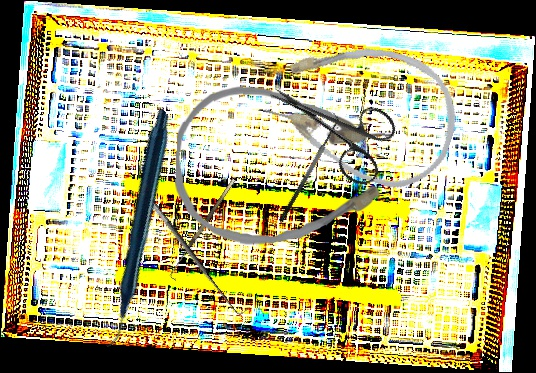Cannula: (252, 19, 472, 201), (173, 83, 396, 251)
Handpiece: (13, 108, 257, 348)
Hook Surgical: (140, 184, 251, 320), (167, 178, 241, 281)
Iris Scissors: (252, 59, 406, 191)
Spatula Surgical: (269, 111, 346, 224)
